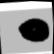correct: (13, 13, 52, 46)
